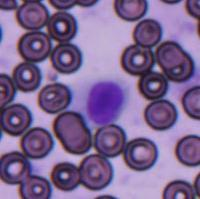L: (84, 76, 130, 127)
